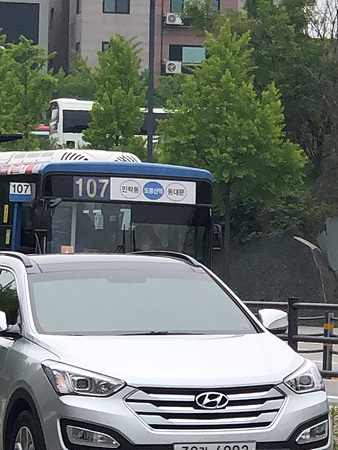bnum: (72, 175, 111, 198)
